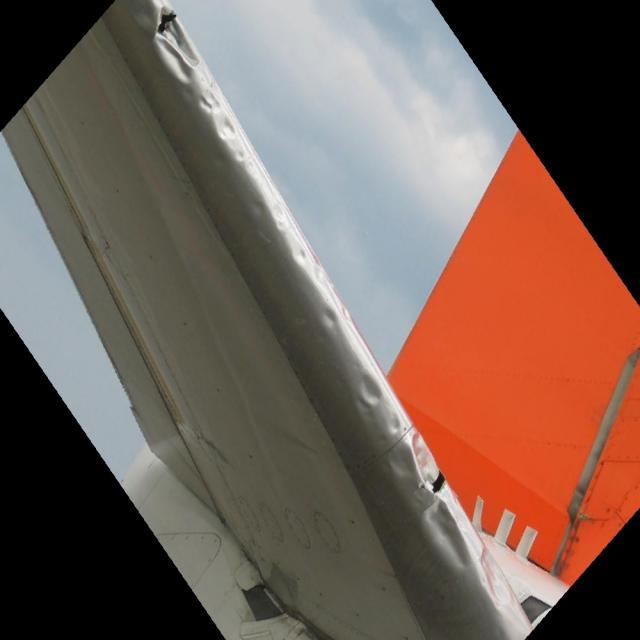dent: (153, 6, 205, 89), (417, 502, 474, 571), (202, 92, 249, 165), (412, 434, 460, 505), (479, 552, 515, 615), (359, 367, 383, 409), (389, 442, 412, 479), (321, 305, 342, 334), (287, 248, 310, 269), (313, 266, 331, 290), (393, 415, 408, 437)
